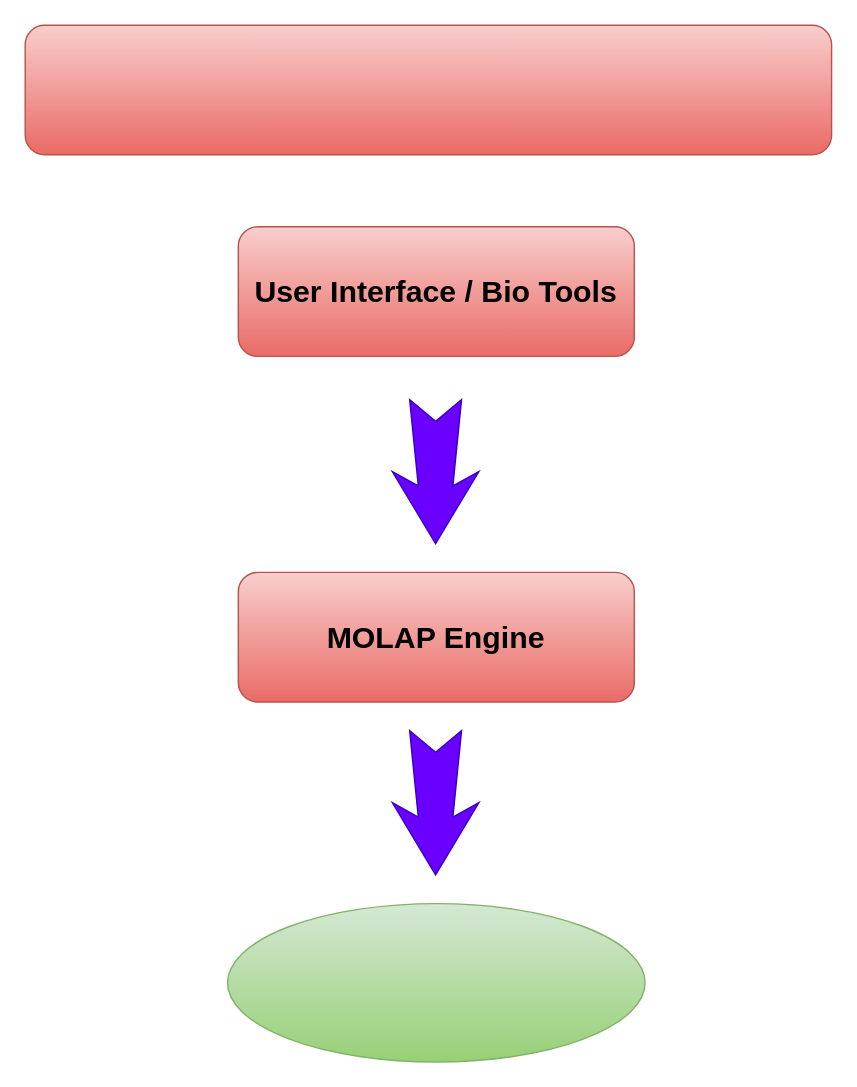
The diagram is 857 pixels wide and 1087 high, and some of its shapes have lost their labels. The shapes that lost their labels are listed below. From the top down, each one's box as (x1, y1, x2, y2) in pixels, then its label:
(24, 24, 832, 155): MOLAP (Multidimensional OLAP) Architecture
(226, 902, 645, 1062): Multidimensional Data Cube
